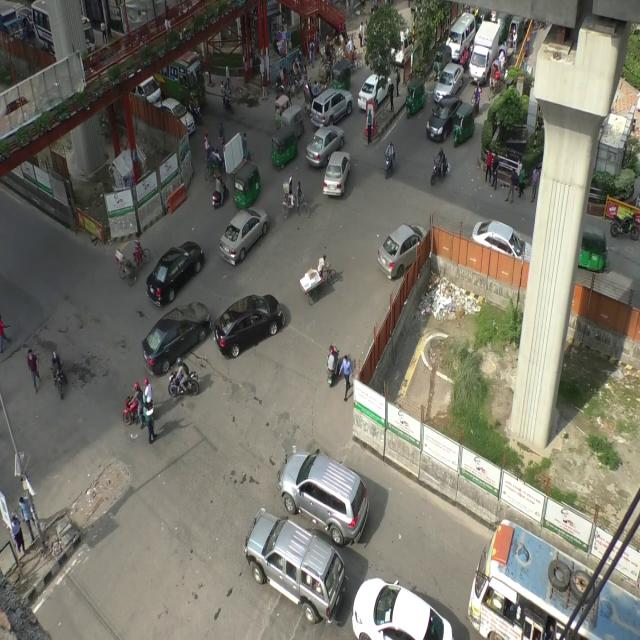cng: (574, 225, 618, 276), (232, 155, 260, 209), (271, 122, 298, 176), (452, 103, 480, 149), (404, 73, 426, 122), (331, 60, 356, 97), (433, 42, 455, 81), (284, 101, 304, 140)
rikshaw: (282, 173, 311, 219), (292, 52, 312, 88), (279, 65, 299, 99), (336, 33, 359, 55), (490, 60, 503, 96), (507, 18, 520, 51), (498, 46, 508, 72)
